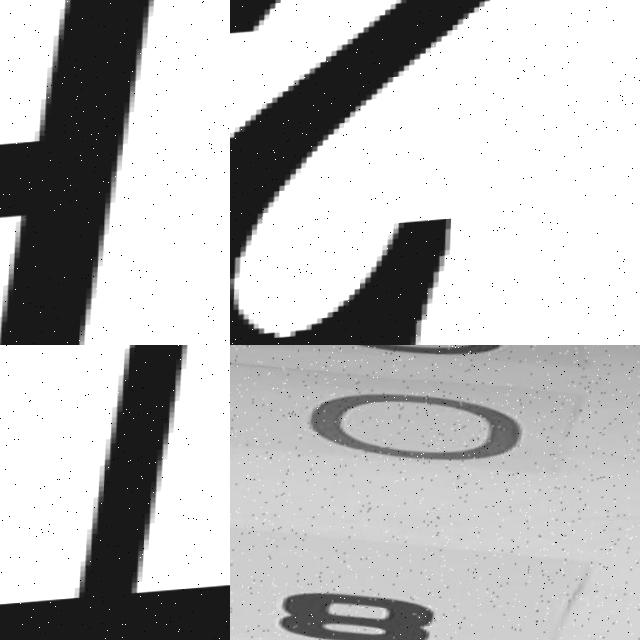0: (286, 366, 567, 504)
2: (230, 0, 629, 345)
8: (245, 567, 483, 640)
9: (285, 345, 542, 395)
R: (0, 0, 187, 345)
T: (0, 345, 230, 640)
